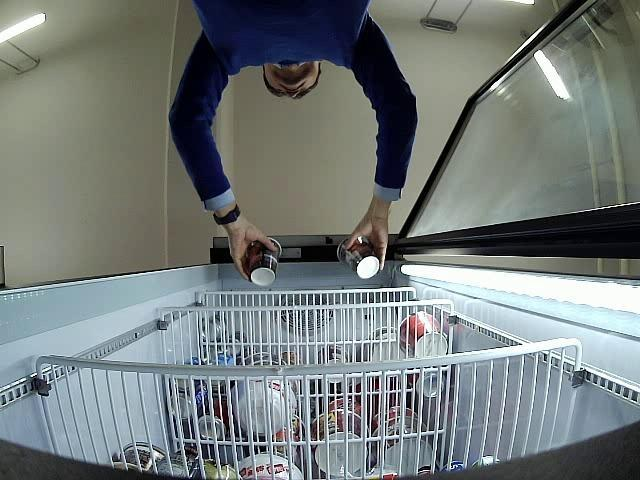08_buldak_S: (245, 237, 282, 286), (338, 236, 380, 279)
